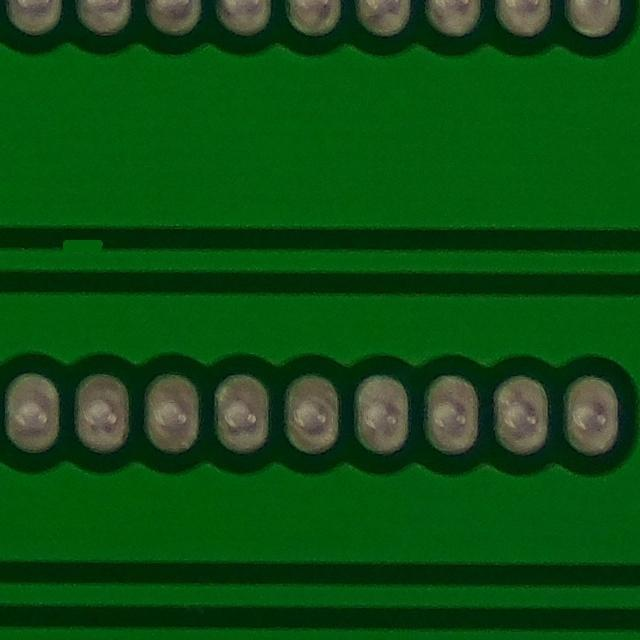spur: (29, 227, 131, 271)
